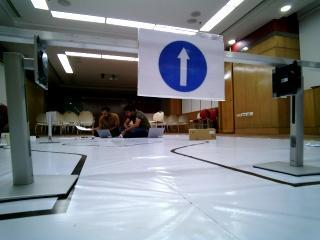straight: (137, 28, 222, 98)
